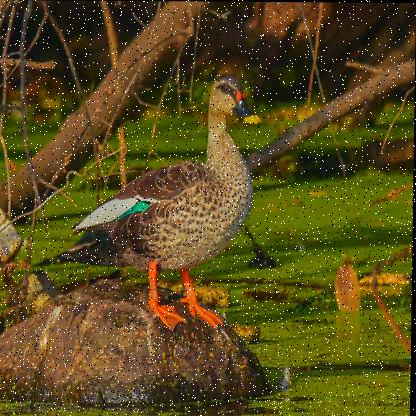Burung: (57, 73, 263, 330)
